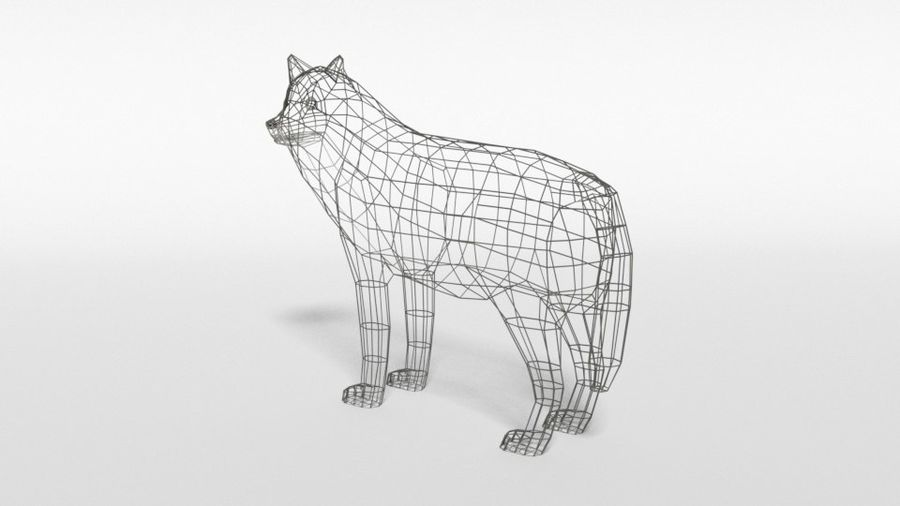Lobo: (256, 34, 633, 489)
